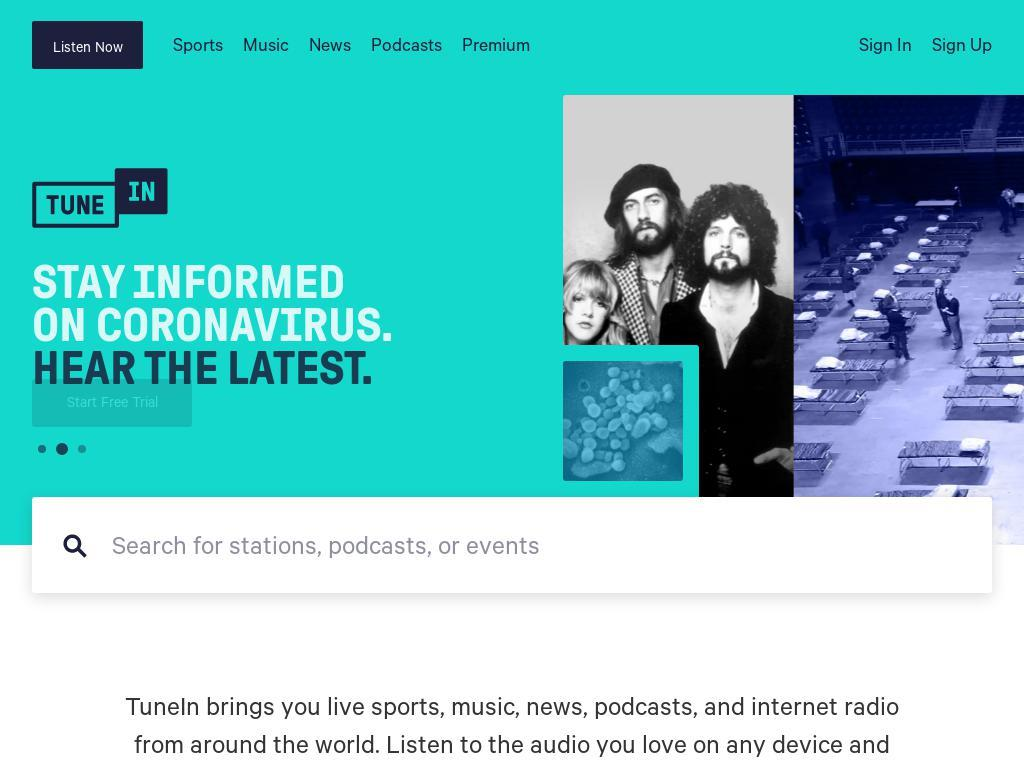button: (563, 95, 1024, 545), (32, 261, 335, 297), (32, 297, 335, 333), (32, 333, 335, 369), (32, 379, 192, 427), (32, 21, 143, 69), (371, 36, 442, 56), (462, 36, 530, 56), (932, 36, 992, 56), (859, 36, 912, 56), (173, 36, 223, 56), (243, 36, 289, 56), (309, 36, 351, 56)
field: (52, 531, 992, 564)
heading: (117, 689, 907, 768)
image: (563, 95, 1024, 545), (32, 168, 168, 228), (62, 533, 88, 559), (36, 443, 48, 455), (58, 445, 66, 453), (78, 445, 86, 453)
text: (37, 384, 187, 422), (37, 26, 138, 69), (371, 36, 442, 56), (462, 36, 530, 56), (932, 36, 992, 56), (859, 36, 912, 56), (173, 36, 223, 56), (243, 36, 289, 56), (309, 36, 351, 56)
